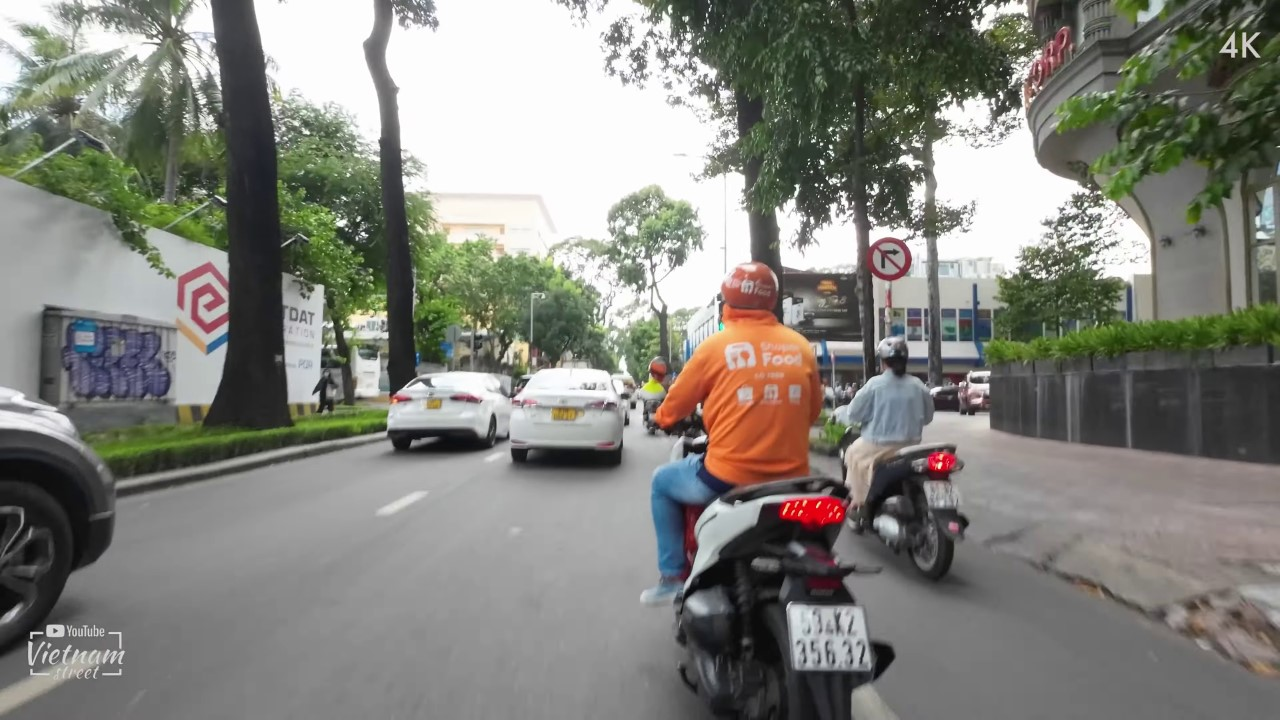cam_re_phai: (867, 236, 912, 283)
